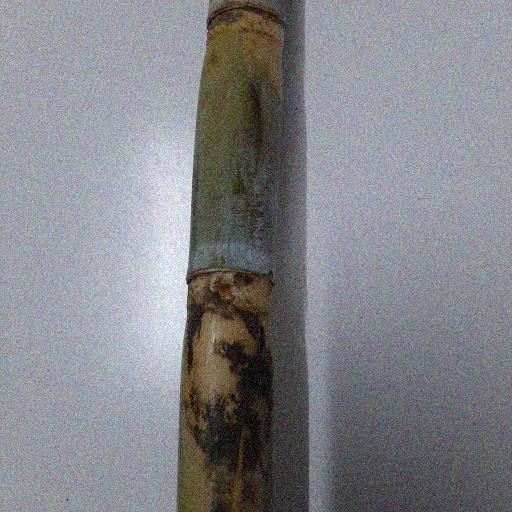Damage_Bud: (209, 270, 240, 303)
